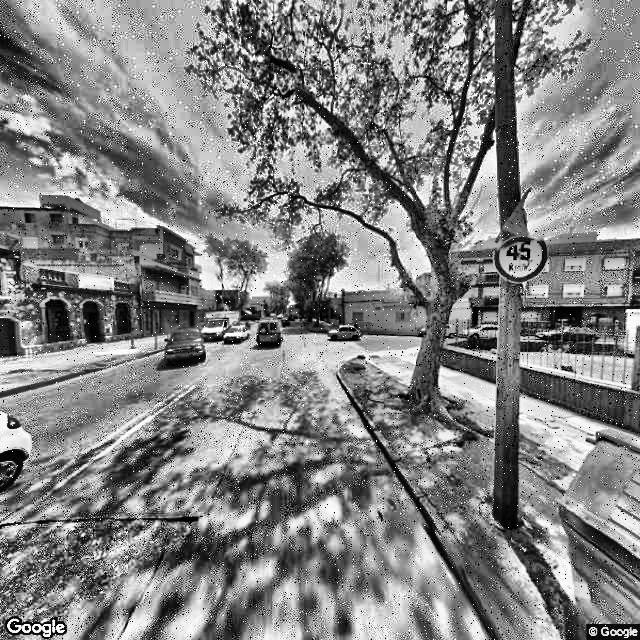Dustbin: (548, 424, 639, 640)
